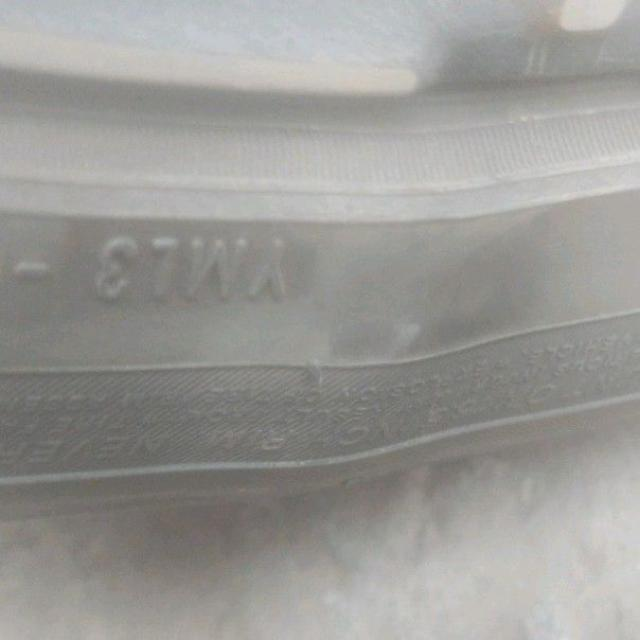Bulge: (185, 297, 452, 532)
